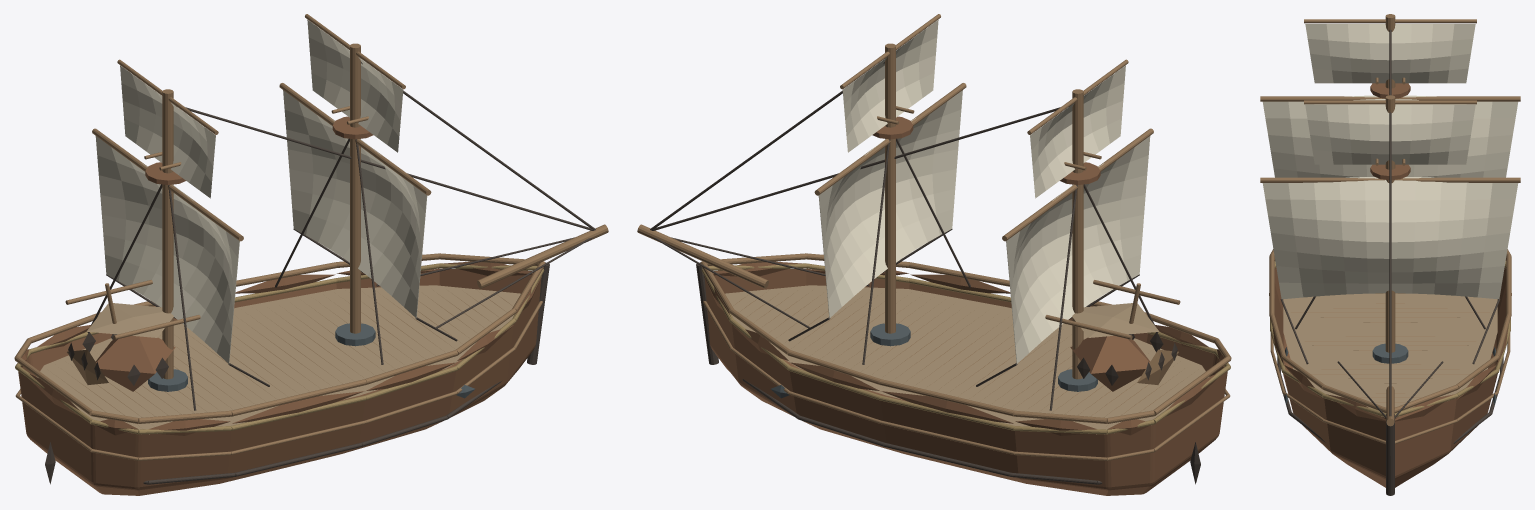
File: carrier.glb
3 views of the same model, side by side, from view 1: azimuth 30°, elevation 25°; view 2: azimuth 150°, elevation 25°; view 3: azimuth 270°, elevation 25° (orthographic). The views are drawn at different scales.
Visible parts, largest first — view 1: Hull; view 2: Hull; view 3: Hull.
Part boxes in pixels (x1,y1,x2,y2): Hull: (14,14,608,495); Hull: (637,14,1231,495); Hull: (1260,14,1520,495).
Size of the model in its own units: 258 by 160 by 117.
